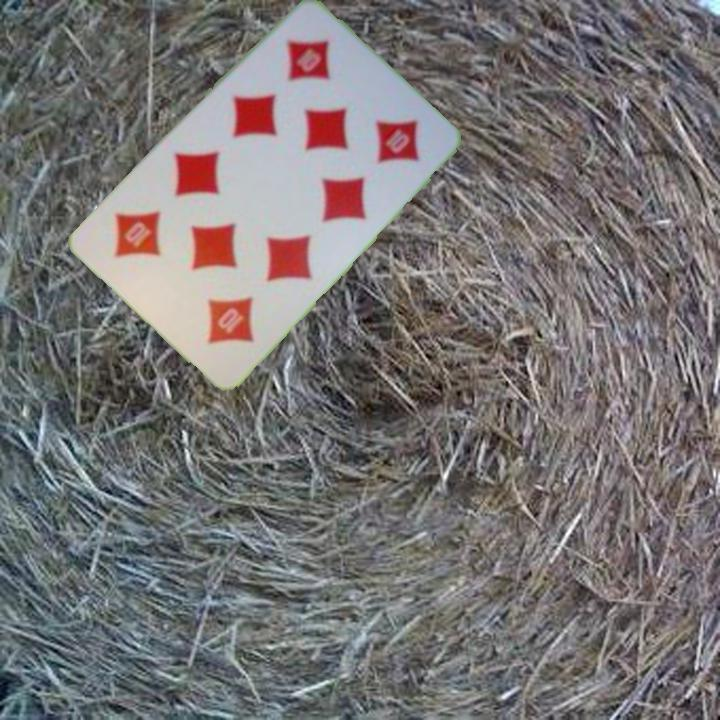d_10.png: (248, 10, 378, 138), (154, 246, 284, 374)
